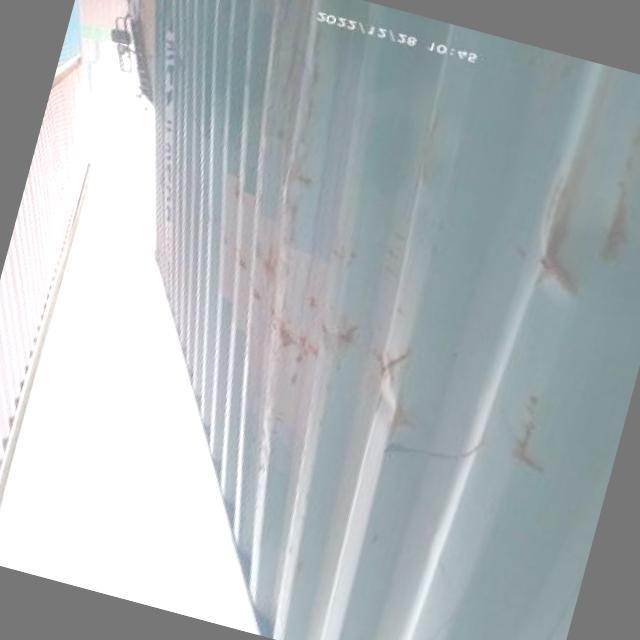rust: (498, 386, 583, 477), (531, 193, 608, 289), (305, 325, 411, 391), (244, 228, 296, 299)
